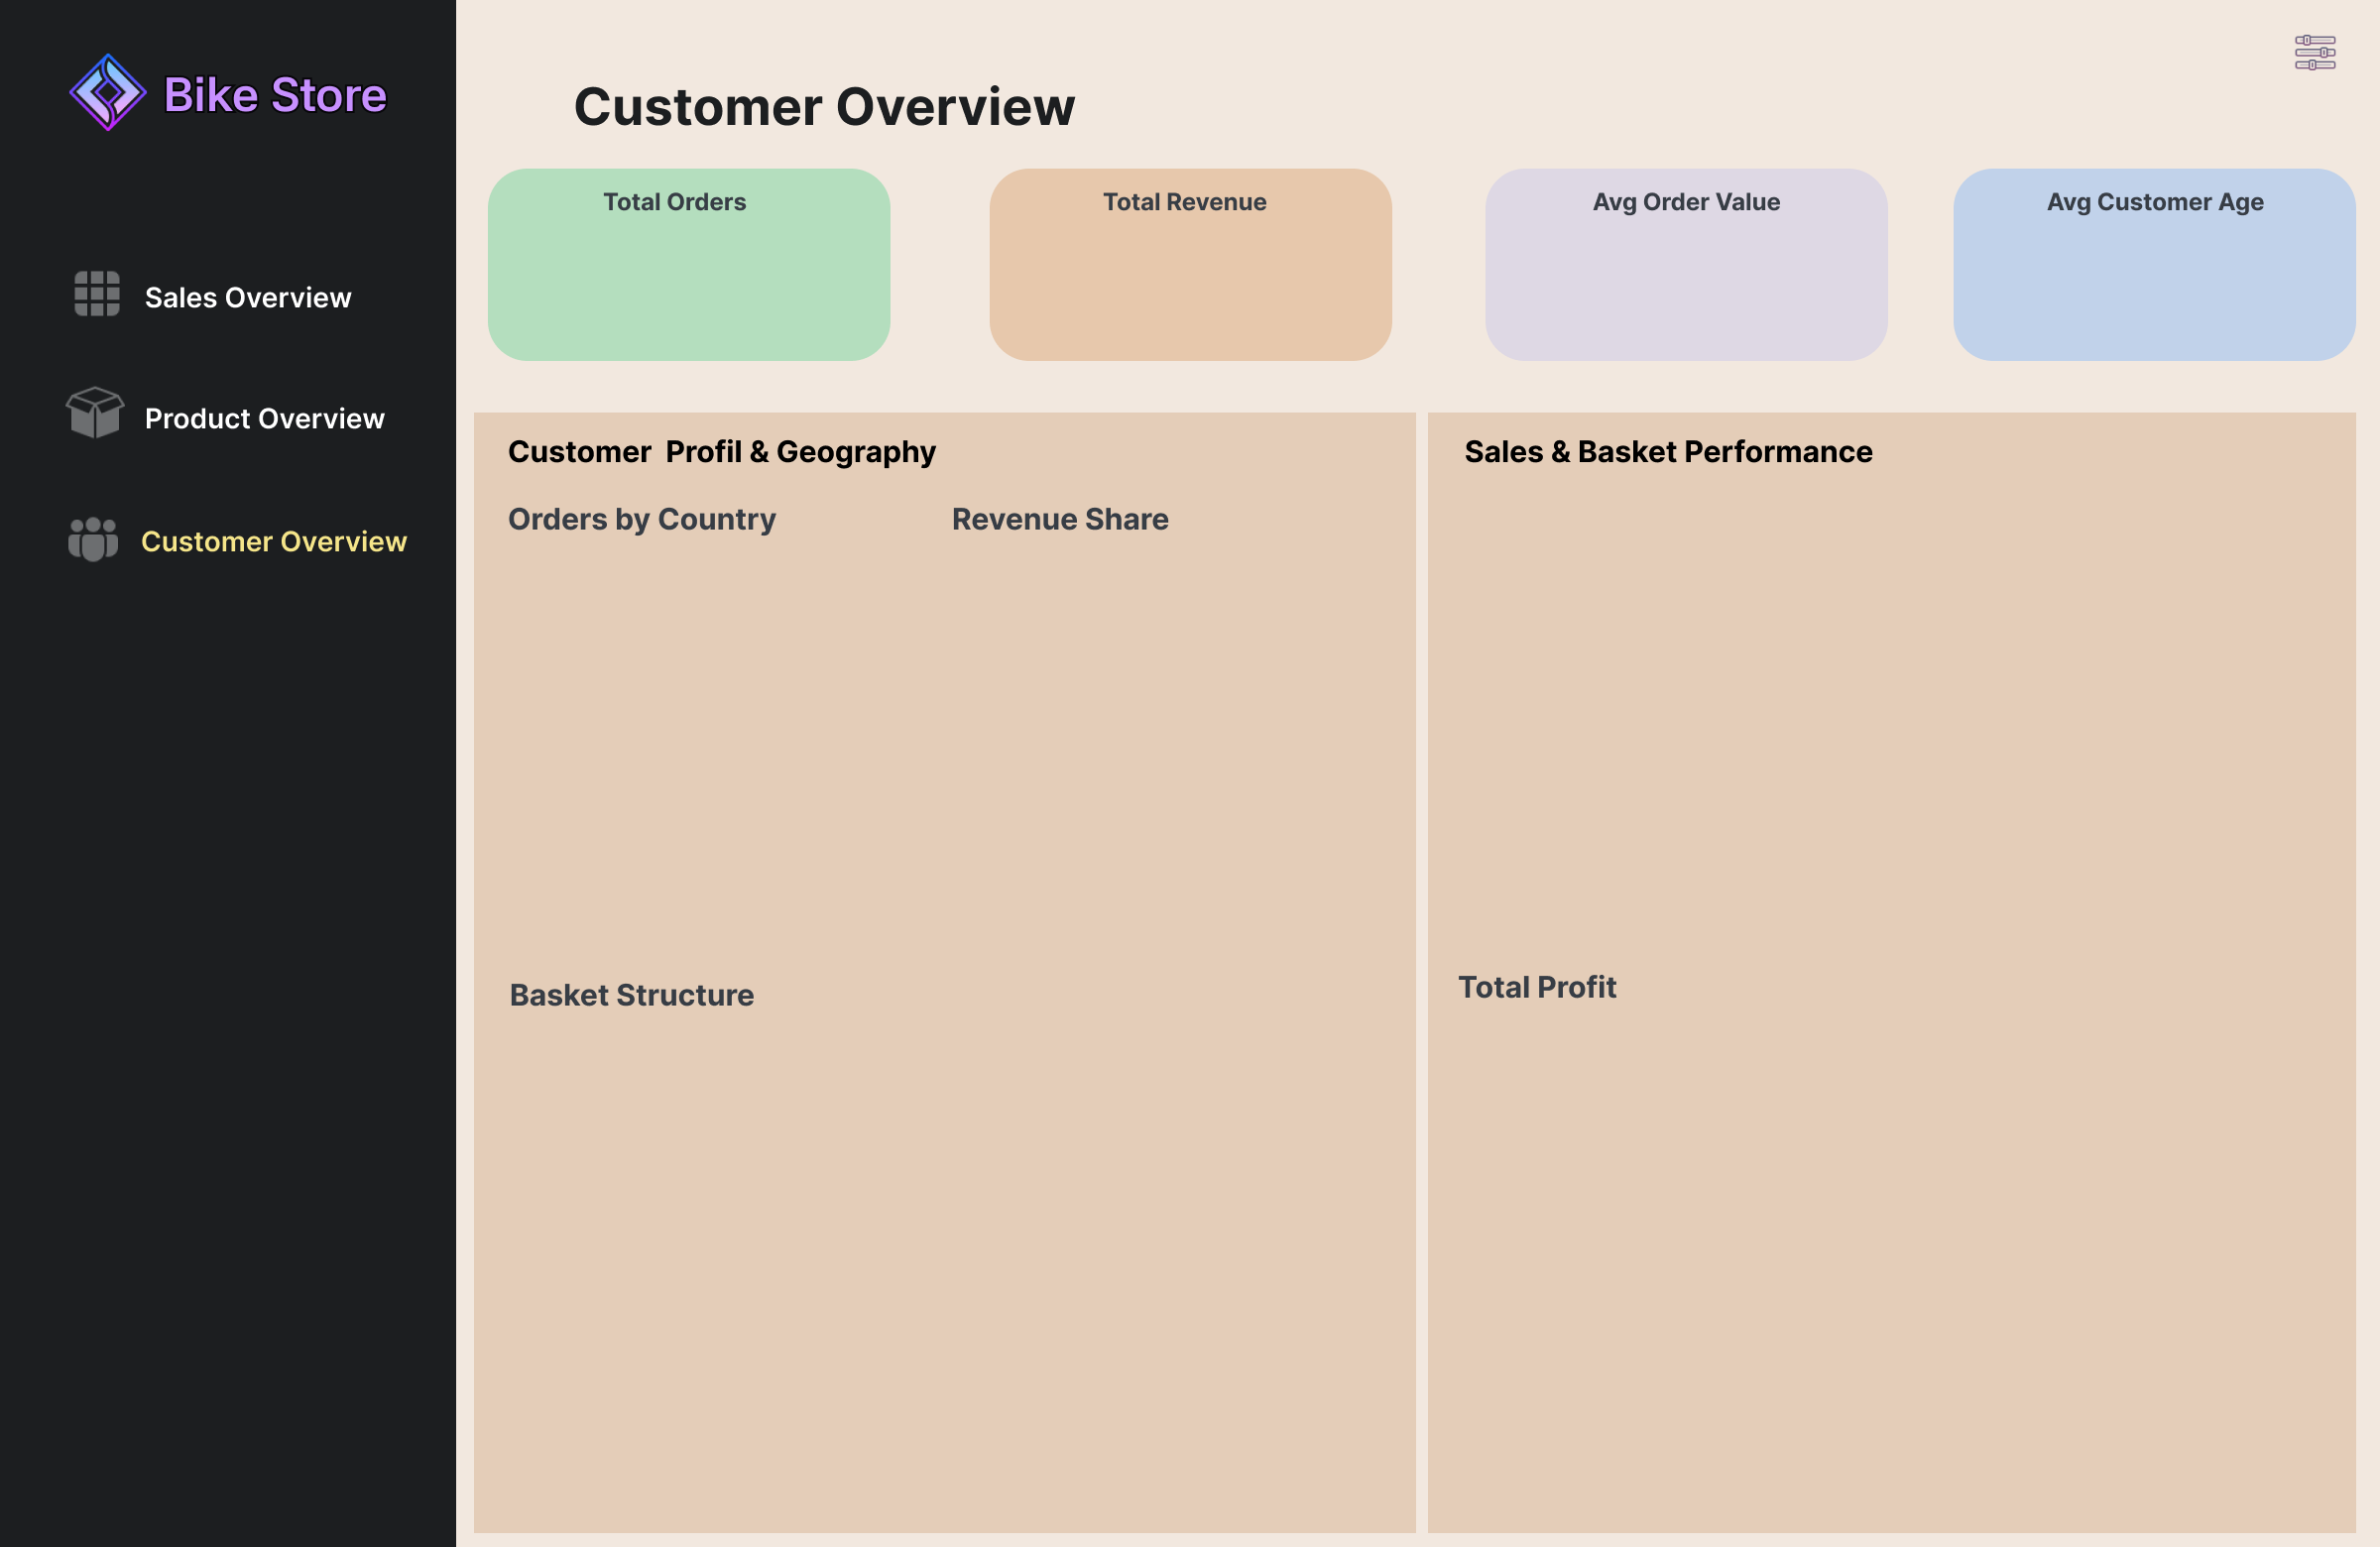

What the dashboard file says about the page in this screenshot:
{"tool":"powerbi","page":{"name":"Customer Overview","canvas":[1920,1080],"ordinal":3},"visuals":[{"type":"cardVisual","fields":{"Data":["tb_measures.Age Group Share Revenue %"],"Rows":["Fact_Sales.Age_Group"]},"box":[965.7,505.3,156,78],"z":0},{"type":"cardVisual","fields":{"Data":["tb_measures.Age Group Share Revenue %"],"Rows":["Fact_Sales.Age_Group"]},"box":[923.7,437.3,250,60],"z":1000},{"type":"cardVisual","fields":{"Data":["tb_measures.Age Group Share Revenue %"],"Rows":["Fact_Sales.Age_Group"]},"box":[949.2,353.3,172.5,82.5],"z":2000},{"type":"cardVisual","fields":{"Data":["tb_measures.Avg Customer Age"]},"box":[1620,141.3,216.6,77.7],"z":3000},{"type":"cardVisual","fields":{"Data":["tb_measures.Total Orders"]},"box":[445,131.9,195.4,91.8],"z":4000},{"type":"cardVisual","fields":{"Data":["tb_measures.Total Revenue"]},"box":[850,138.9,223.7,84.8],"z":5000},{"type":"cardVisual","fields":{"Data":["tb_measures.Averege Order Value"]},"box":[1236.2,138.9,237.8,91.8],"z":6000},{"type":"clusteredBarChart","fields":{"Category":["Fact_Sales.Age_Group"],"Y":["tb_measures.Averege Order Value"]},"box":[1162.5,337.5,710,350],"z":7000},{"type":"clusteredBarChart","fields":{"Category":["Fact_Sales.Country"],"Y":["tb_measures.Total Orders"]},"box":[380,352.5,395,335],"z":8000},{"type":"donutChart","fields":{"Category":["Fact_Sales.Age_Group"],"Y":["tb_measures.Total Revenue"]},"box":[715,362.5,310,325],"z":9000},{"type":"hundredPercentStackedBarChart","fields":{"Category":["Fact_Sales.Age_Group"],"Series":["Fact_Sales.Product_Category"],"Y":["tb_measures.Total Revenue"]},"box":[387.5,705,722.5,365],"z":10000},{"type":"cardVisual","fields":{"Data":["tb_measures.Age Group Share Revenue %"],"Rows":["Fact_Sales.Age_Group"]},"box":[971.7,583.3,150,78],"z":11000},{"type":"clusteredColumnChart","fields":{"Category":["Fact_Sales.Age_Group"],"Y":["tb_measures.Total Profit"]},"box":[1162.5,702.5,710,377.5],"z":11125},{"type":"actionButton","box":[42,264,292,60],"z":11250},{"type":"cardVisual","fields":{"Data":["tb_measures.Average Profit per Order"]},"box":[1647.5,702.5,247.5,137.5],"z":11375},{"type":"actionButton","box":[42,162,292,86],"z":11500},{"type":"actionButton","box":[52.5,170,260,62.5],"z":12000},{"type":"actionButton","box":[40,252.5,285,85],"z":13000},{"type":"actionButton","box":[1836,10,72,44],"z":14000},{"type":"actionButton","box":[1836,16,72,58],"z":15000},{"type":"actionButton","box":[1835,17.5,75,62.5],"z":22000}]}

Visuals, with their boxes on the page's 1920x1080 design canvas (x1, y1, x2, y2). These are canvas units, not pixel positions in the 2380x1547 screenshot, which may show the page scaled, cropped or inside an application window:
cardVisual - tb_measures.Age Group Share Revenue % x Fact_Sales.Age_Group: <bbox>966, 505, 1122, 583</bbox>
cardVisual - tb_measures.Age Group Share Revenue % x Fact_Sales.Age_Group: <bbox>924, 437, 1174, 497</bbox>
cardVisual - tb_measures.Age Group Share Revenue % x Fact_Sales.Age_Group: <bbox>949, 353, 1122, 436</bbox>
cardVisual - tb_measures.Avg Customer Age: <bbox>1620, 141, 1837, 219</bbox>
cardVisual - tb_measures.Total Orders: <bbox>445, 132, 640, 224</bbox>
cardVisual - tb_measures.Total Revenue: <bbox>850, 139, 1074, 224</bbox>
cardVisual - tb_measures.Averege Order Value: <bbox>1236, 139, 1474, 231</bbox>
clusteredBarChart - Fact_Sales.Age_Group x tb_measures.Averege Order Value: <bbox>1162, 338, 1872, 688</bbox>
clusteredBarChart - Fact_Sales.Country x tb_measures.Total Orders: <bbox>380, 352, 775, 688</bbox>
donutChart - Fact_Sales.Age_Group x tb_measures.Total Revenue: <bbox>715, 362, 1025, 688</bbox>
hundredPercentStackedBarChart - Fact_Sales.Age_Group x Fact_Sales.Product_Category: <bbox>388, 705, 1110, 1070</bbox>
cardVisual - tb_measures.Age Group Share Revenue % x Fact_Sales.Age_Group: <bbox>972, 583, 1122, 661</bbox>
clusteredColumnChart - Fact_Sales.Age_Group x tb_measures.Total Profit: <bbox>1162, 702, 1872, 1080</bbox>
actionButton: <bbox>42, 264, 334, 324</bbox>
cardVisual - tb_measures.Average Profit per Order: <bbox>1648, 702, 1895, 840</bbox>
actionButton: <bbox>42, 162, 334, 248</bbox>
actionButton: <bbox>52, 170, 312, 232</bbox>
actionButton: <bbox>40, 252, 325, 338</bbox>
actionButton: <bbox>1836, 10, 1908, 54</bbox>
actionButton: <bbox>1836, 16, 1908, 74</bbox>
actionButton: <bbox>1835, 18, 1910, 80</bbox>
